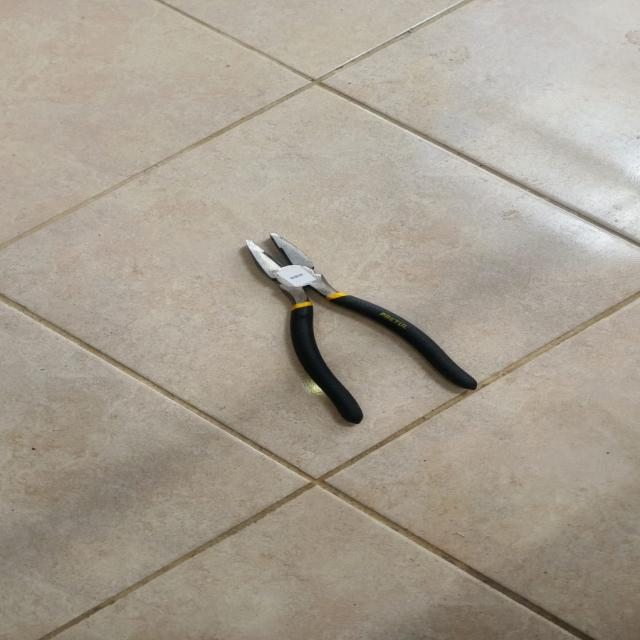alicate: (218, 214, 501, 437)
